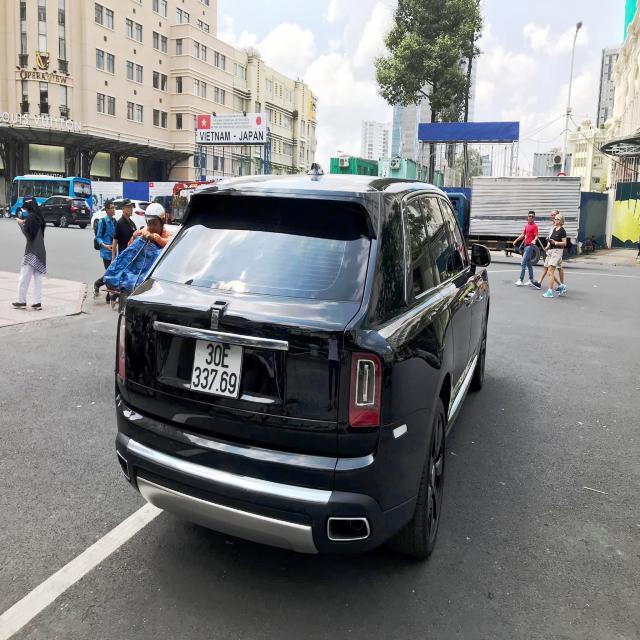license_plate: (191, 340, 245, 399)
